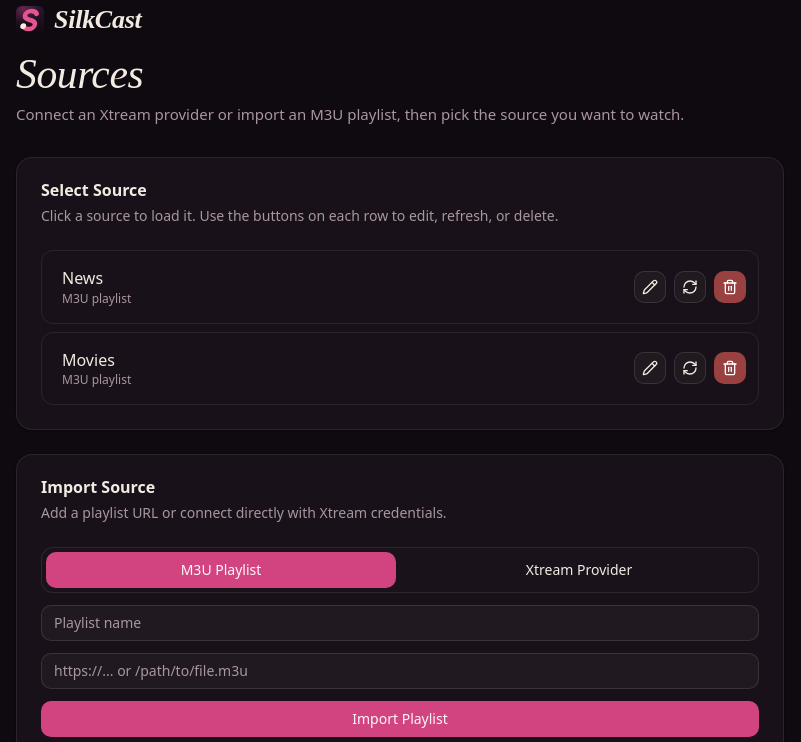
HomePage › refreshes a source from its row action
Click the button named "Refresh" in the row of "Movies". click: (690,368)
box: [674,352,706,384]
(page scrolled)
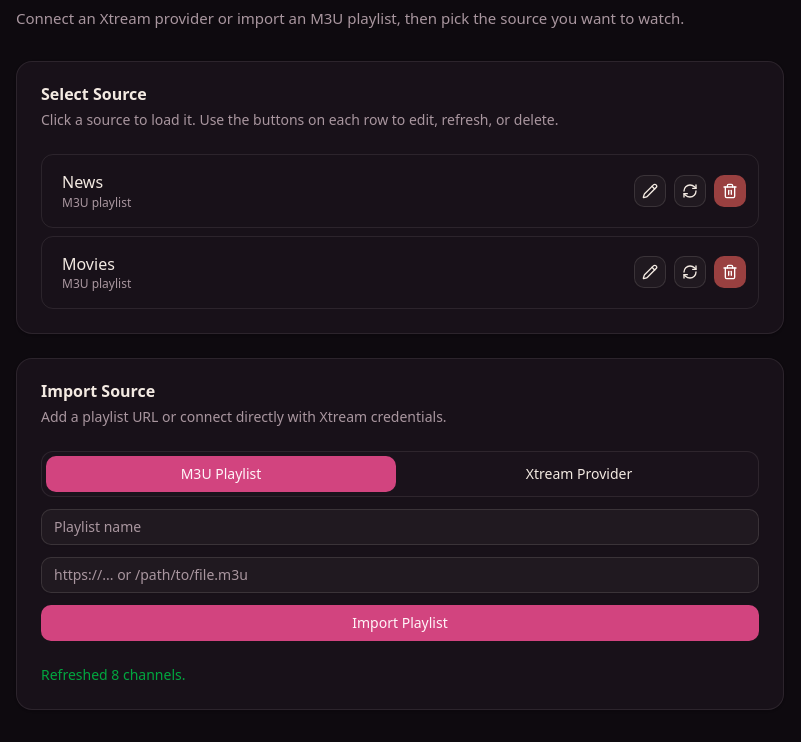
Expected: the text "Refreshed 8 channels." is shown, [41,665,186,685]
